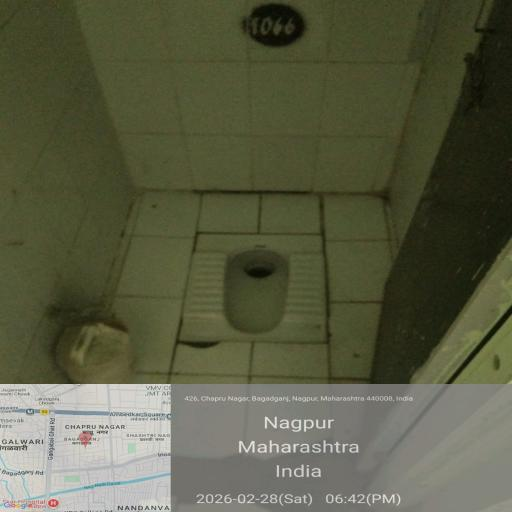clean_floor: (4, 6, 439, 192), (399, 197, 512, 385), (0, 216, 89, 370)
partial_dirty_floor: (117, 190, 390, 379)
partial_dirty_indian: (182, 234, 330, 346)
